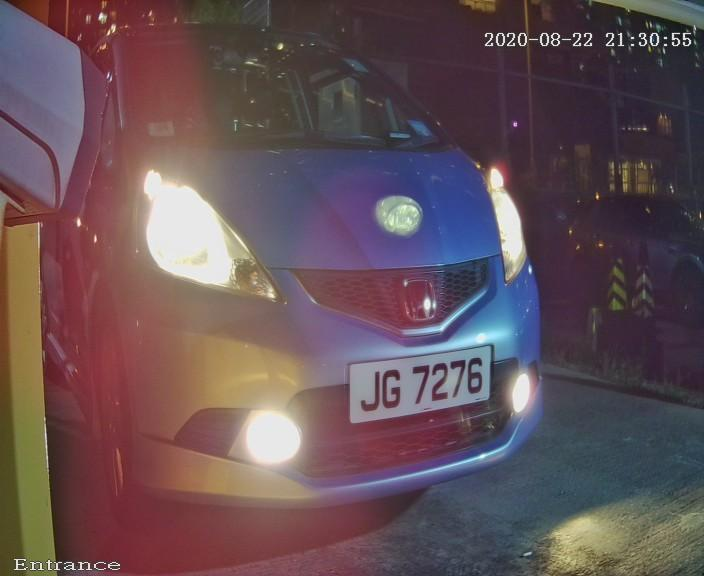License Plate: (322, 314, 522, 457)
